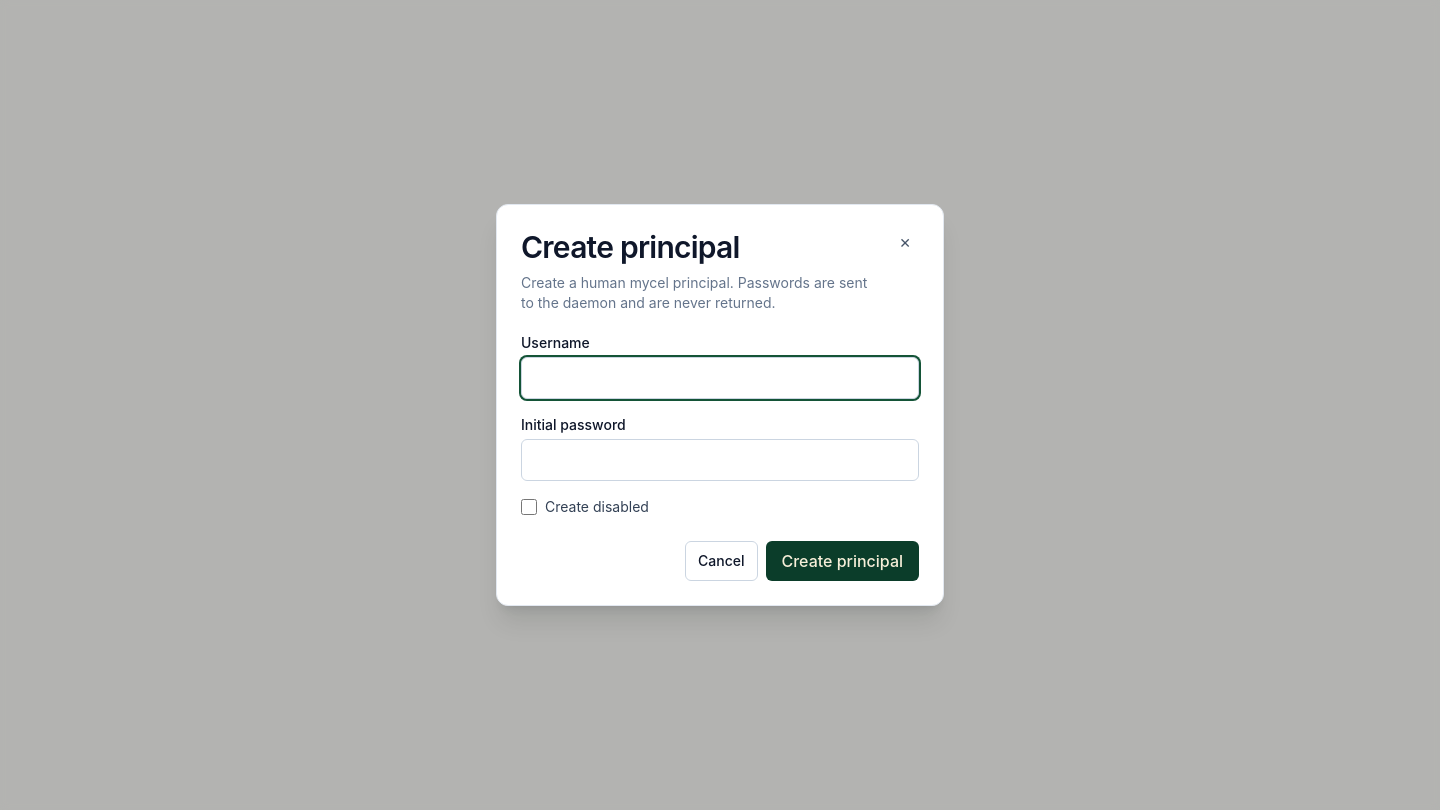
shows backend errors
In the field labelled "Username": (720, 378) [521,357,919,399], type "new-user"
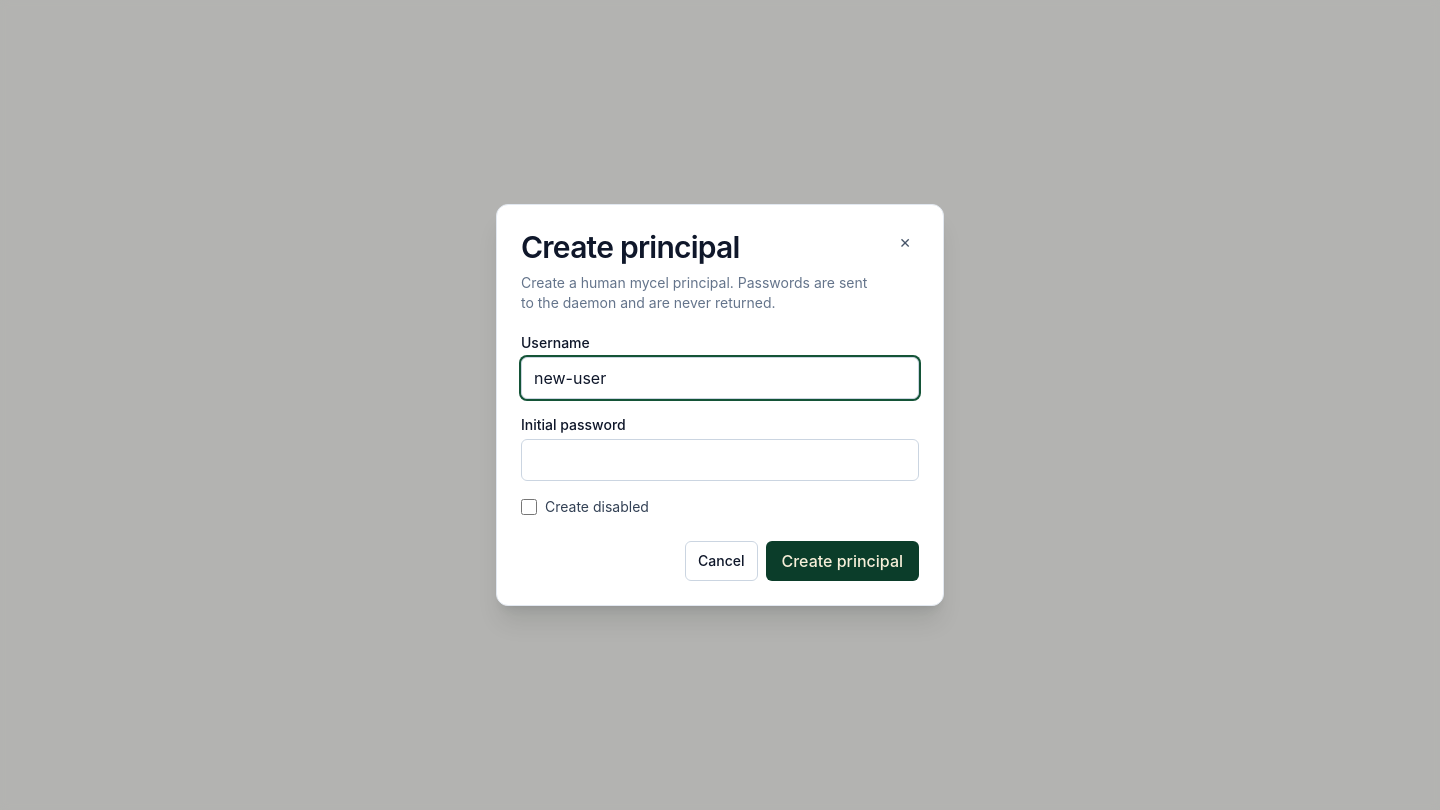
In the password field labelled "Initial password": (720, 460) [521,439,919,481], type "secret"
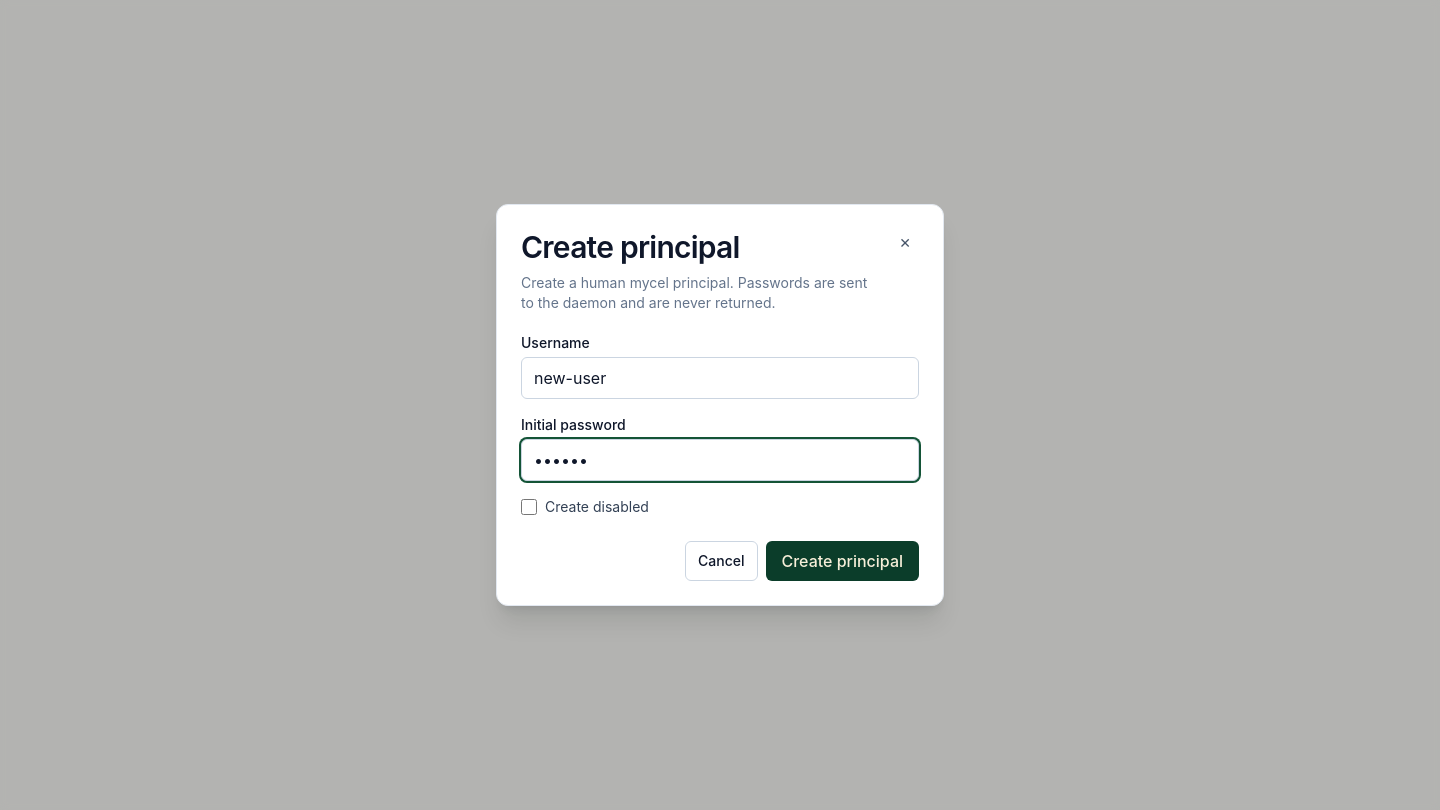
Click the button "Create principal": (842, 561) [766,541,919,581]
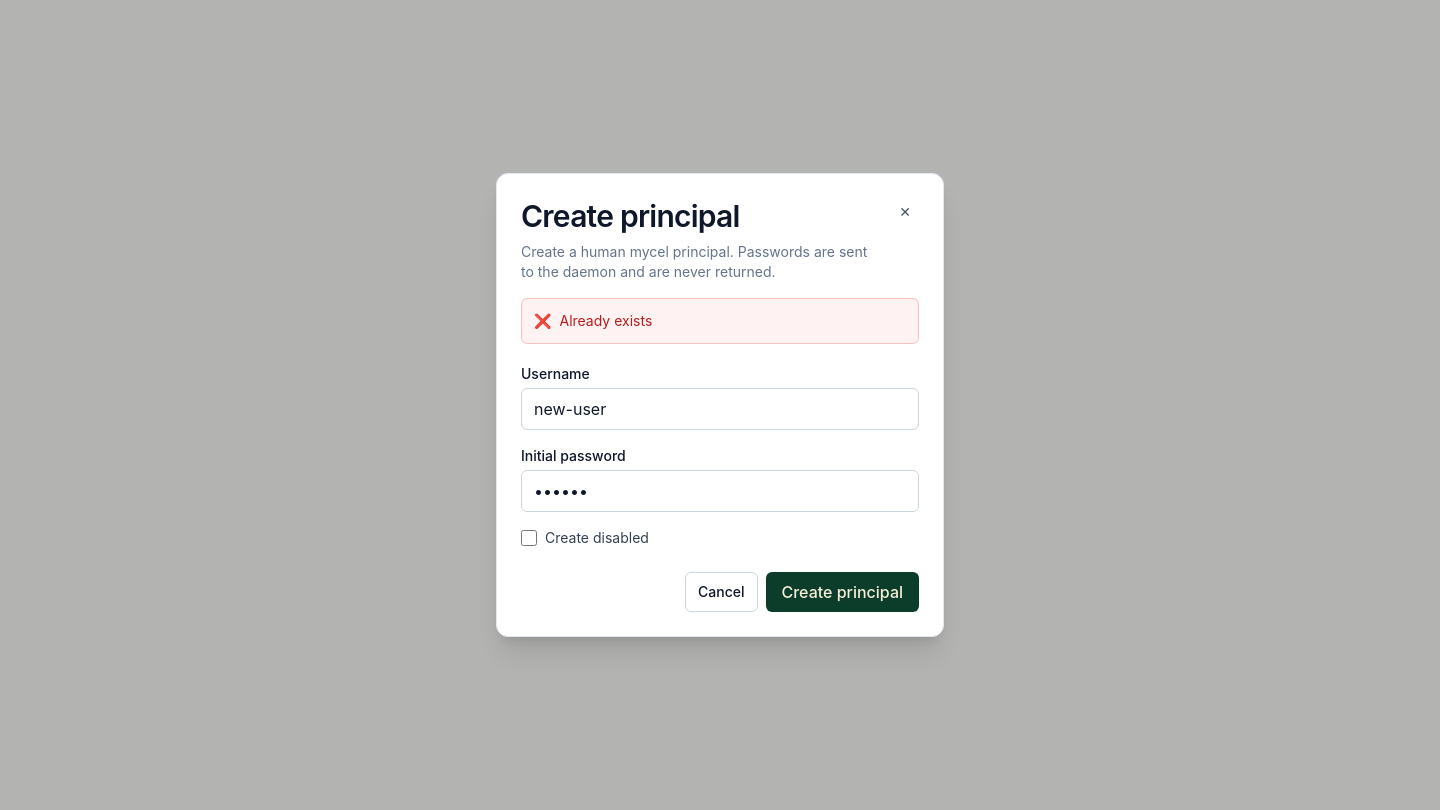
Expected: the message shows "Already exists", [560,312,652,329]
